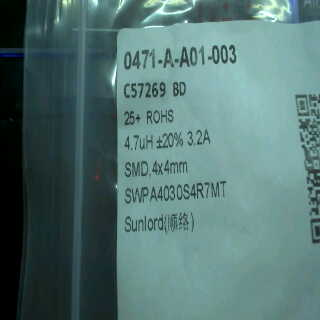4.7uH: (122, 129, 157, 154)
